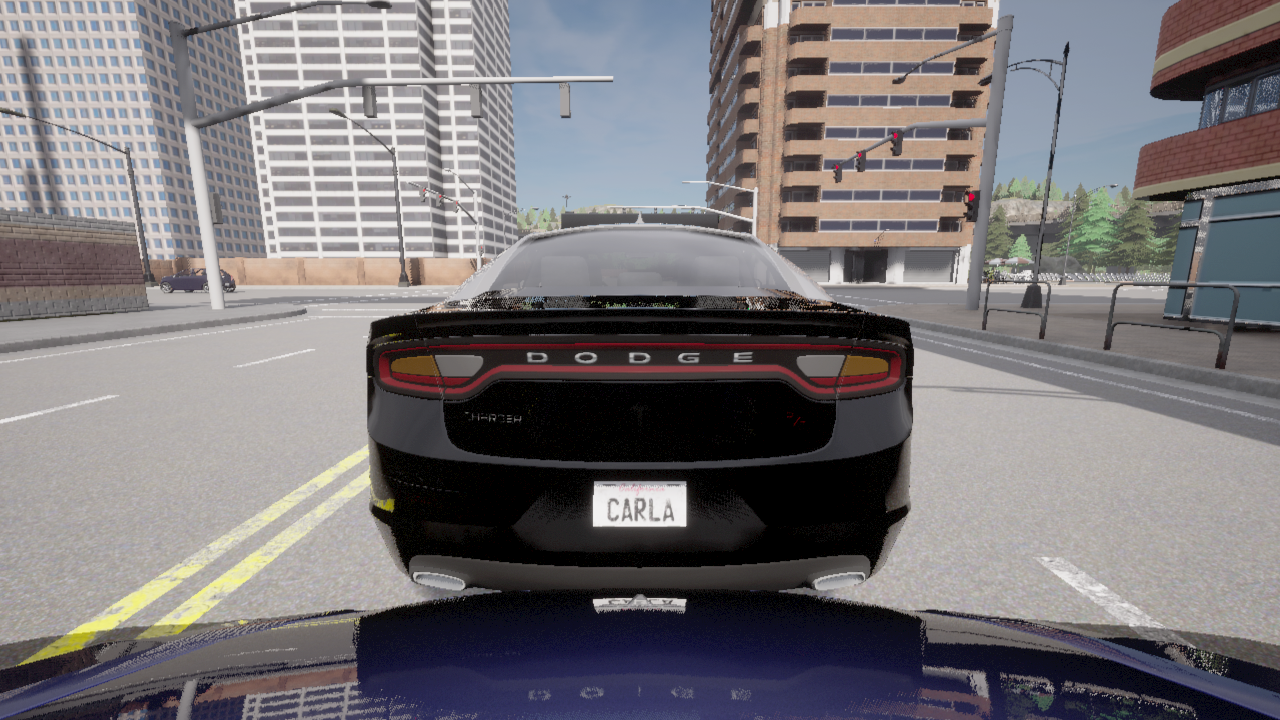cyclist: (366, 211, 913, 591), (0, 588, 1279, 719), (160, 268, 235, 293)
